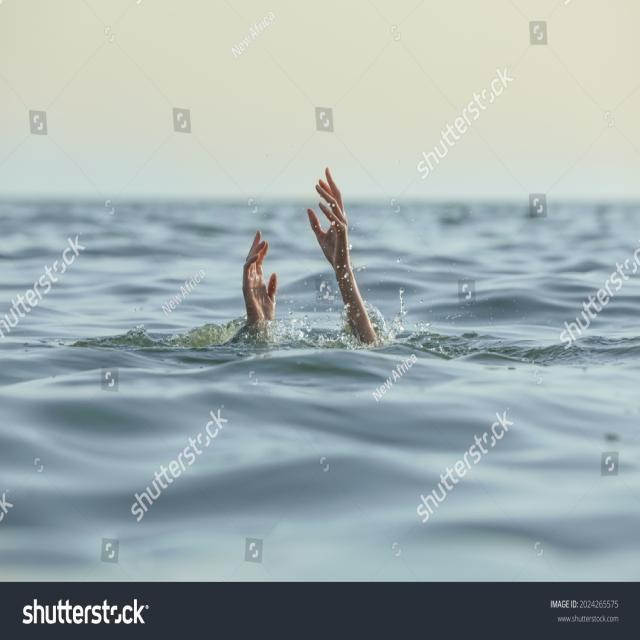Out of Water: (228, 165, 380, 425)
